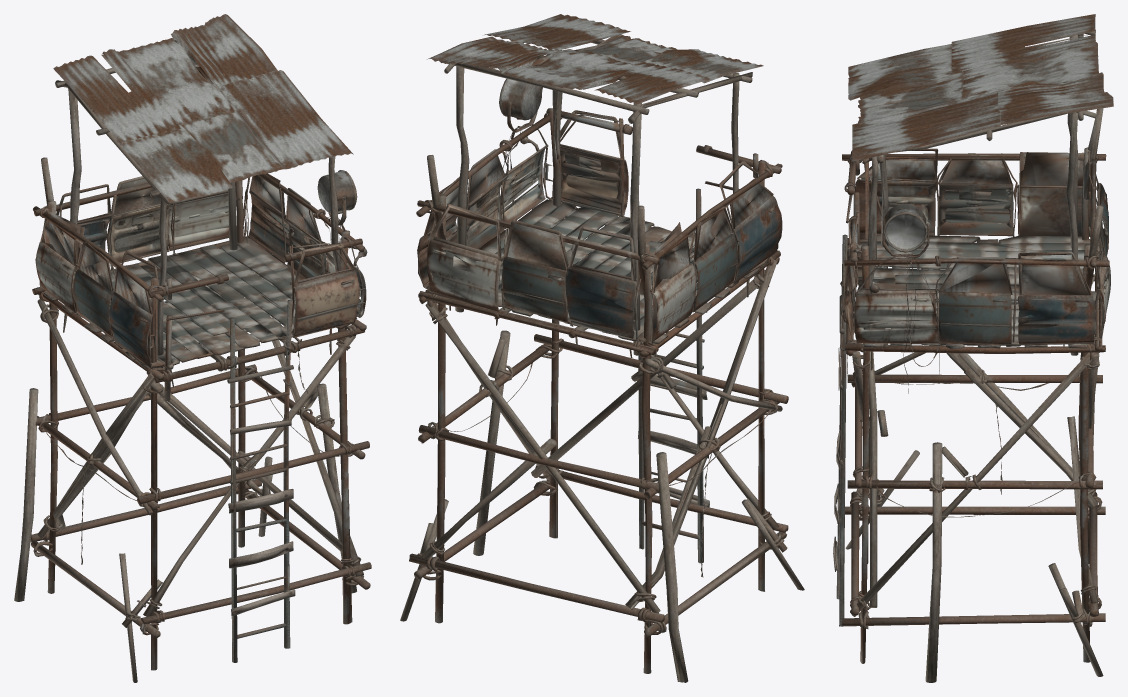
Rendered from jt_watchtower.glb.
3 views of the same model, side by side, from view 1: azimuth 30°, elevation 25°; view 2: azimuth 150°, elevation 25°; view 3: azimuth 270°, elevation 25° (orthographic). The views are drawn at different scales.
Bounding box in the file's own units: 0.5078 × 0.9521 × 0.4331.
1 material, 1 textured.
